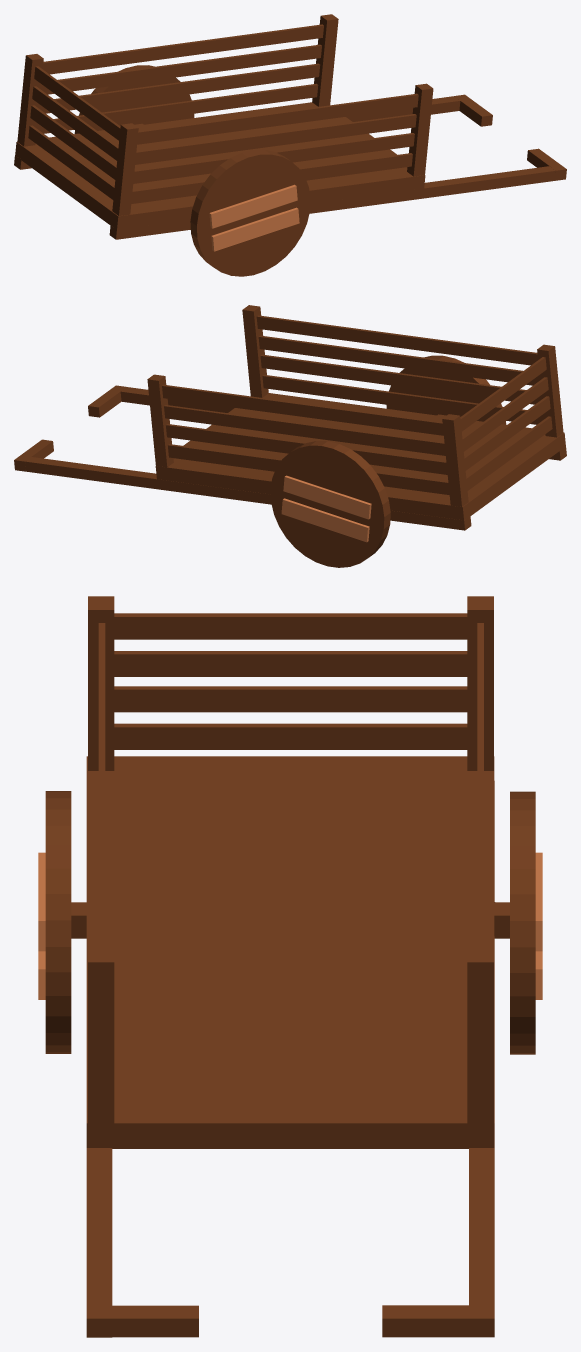
Rendered from Kart.fbx.
3 views of the same model, one above another, from view 1: azimuth 30°, elevation 25°; view 2: azimuth 150°, elevation 25°; view 3: azimuth 270°, elevation 25° (orthographic). The views are drawn at different scales.
Parts seen in each view (by area): view 1: Circle.001; view 2: Circle.001; view 3: Circle.001.
Part boxes in pixels (<box>): Circle.001: <box>14,14,566,276</box>; Circle.001: <box>14,305,566,567</box>; Circle.001: <box>38,596,542,1337</box>.
Bounding box in the file's own units: 708 × 250 × 343.
Materials: 1 (1 with a texture image).
